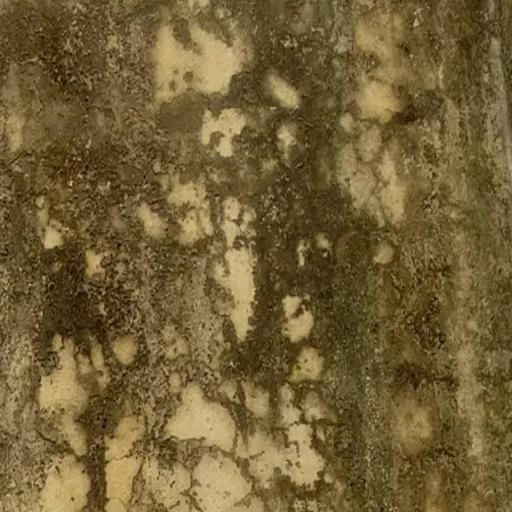algae: (2, 0, 512, 471)
